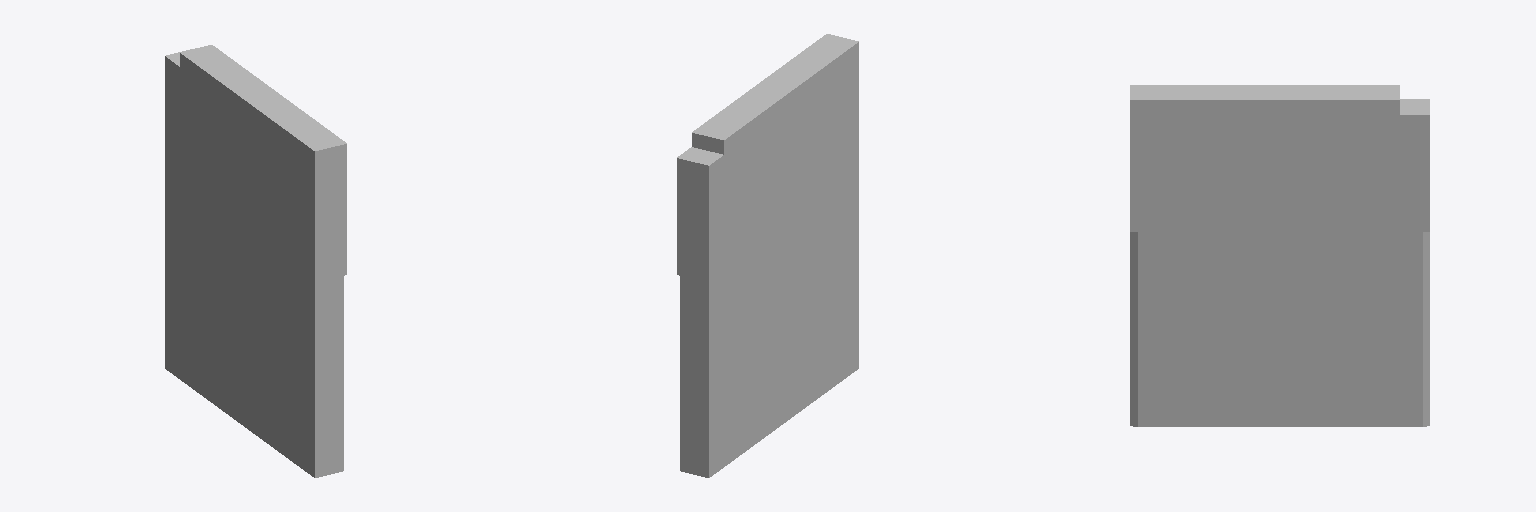
File: Cartridge.obj
3 renders of one model, left to right at view 1: azimuth 30°, elevation 25°; view 2: azimuth 150°, elevation 25°; view 3: azimuth 270°, elevation 25°, orthographic.
Parts seen in each view (by area): view 1: Cube; view 2: Cube; view 3: Cube.
Boxes of the visible parts, x1,y1,x2,y2 form: Cube: [165, 45, 346, 477]; Cube: [677, 34, 858, 477]; Cube: [1130, 85, 1429, 426].
Size of the model in its own units: 0.125 by 1.2 by 1.